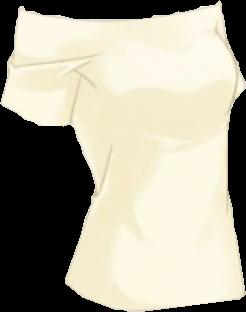Bodice: (66, 3, 245, 310)
Neckline: (79, 3, 217, 22)
Sleeve: (0, 6, 86, 125)
Sleeveline: (75, 20, 90, 98)
Waistline: (64, 279, 245, 311)
